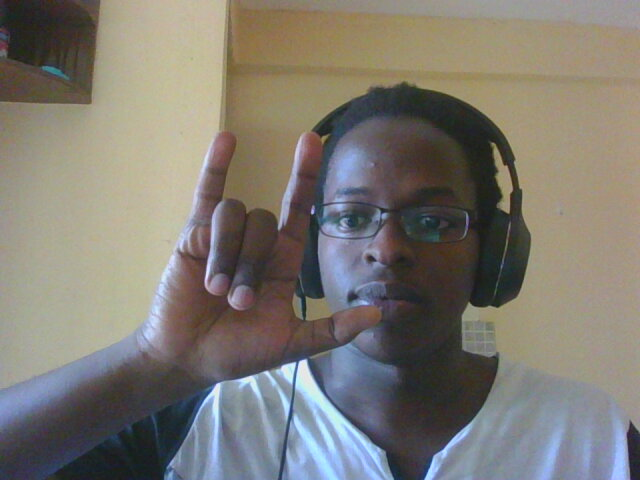I Love You: (124, 95, 395, 392)
